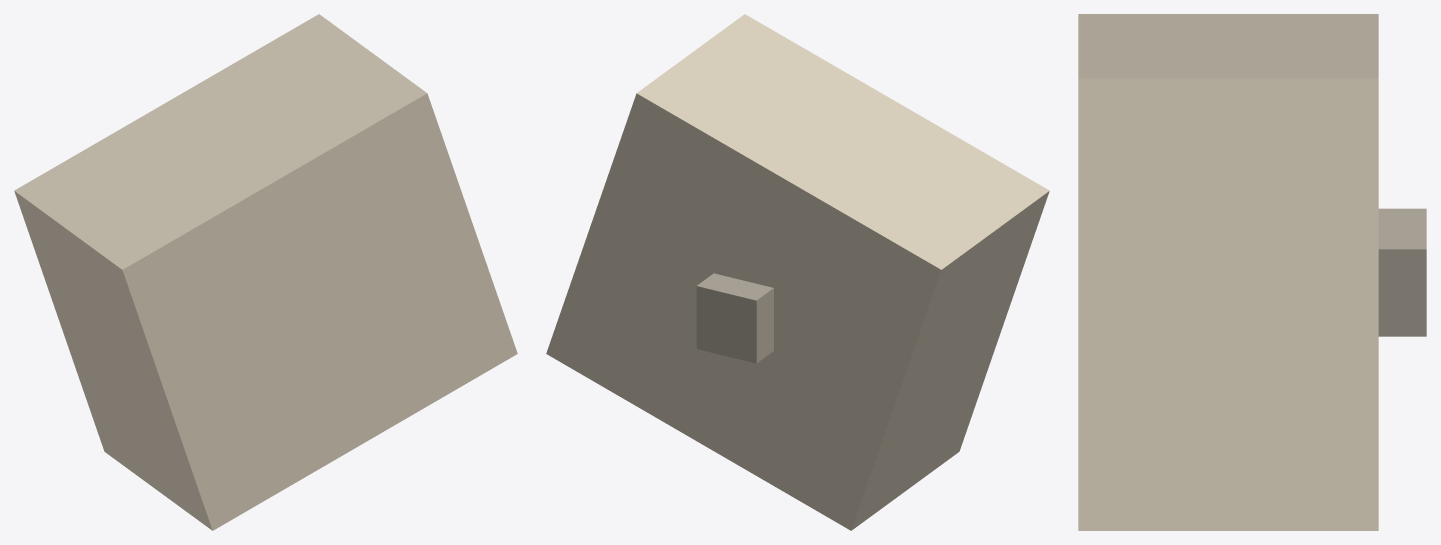
Rendered from historic-palestine-14_38_3564_3327.glb.
3 renders of one model, left to right at view 1: azimuth 30°, elevation 25°; view 2: azimuth 150°, elevation 25°; view 3: azimuth 270°, elevation 25°, orthographic. The views are drawn at different scales.
Parts seen in each view (by area): view 1: Building_; view 2: Building_, Roof access hut; view 3: Building_, Roof access hut.
Part boxes in pixels (left/top/right/bottom): Building_: left=14, top=14, right=517, bottom=530; Building_: left=546, top=14, right=1049, bottom=530; Roof access hut: left=696, top=273, right=773, bottom=363; Building_: left=1078, top=14, right=1378, bottom=530; Roof access hut: left=1378, top=208, right=1426, bottom=336.
Size of the model in its own units: 15.8 by 14.72 by 8.7.
